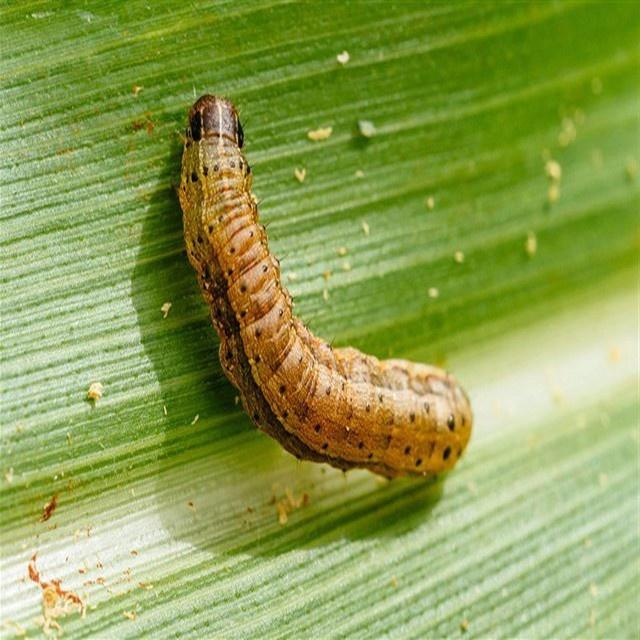yellow-stem-borer-larva: (163, 71, 500, 508)
